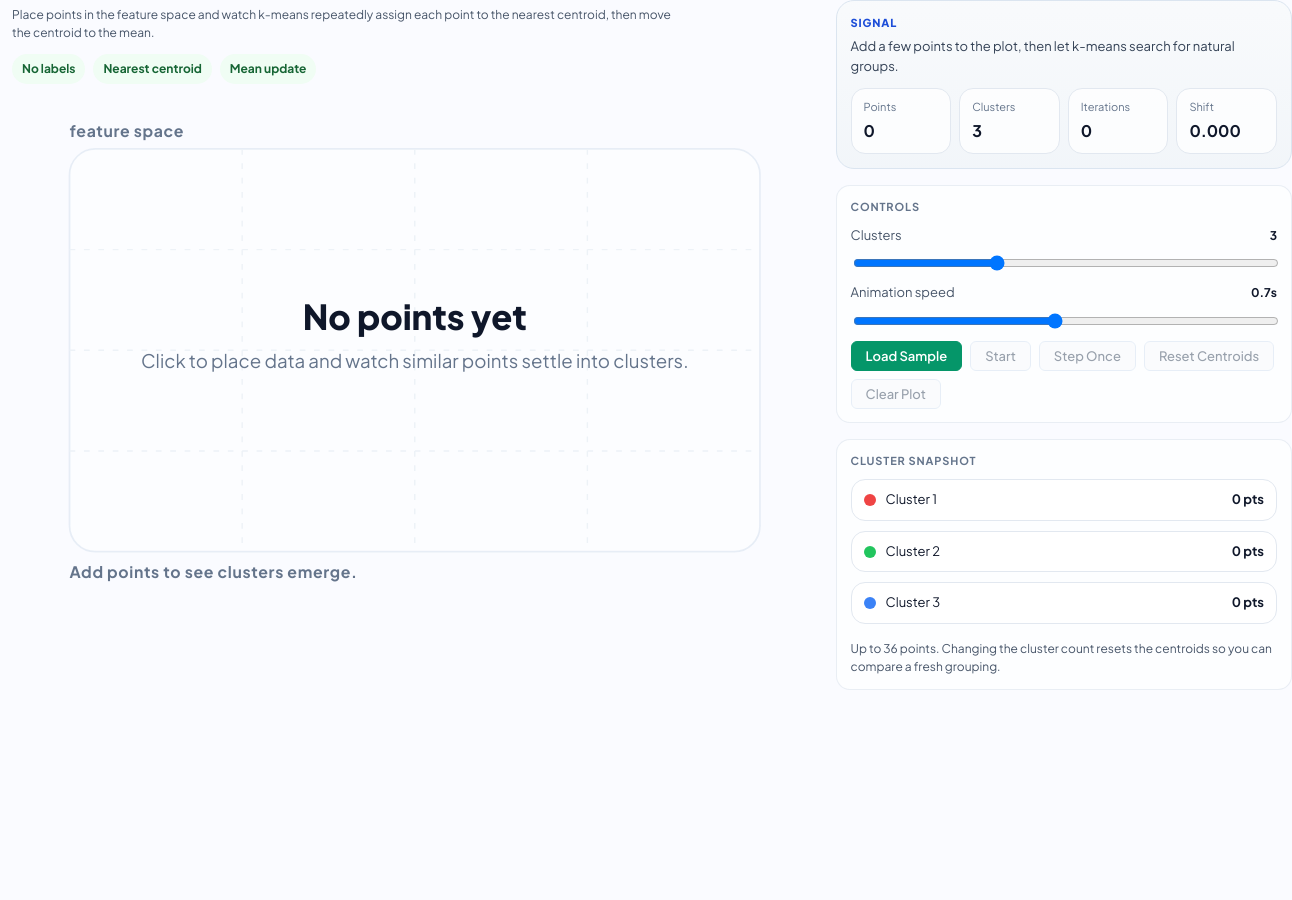
Scenario: ClusteringLab › enables controls and shows 12 points after clicking Load Sample
Click the button "Load Sample".
click(906, 356)  # box [850,341,962,371]
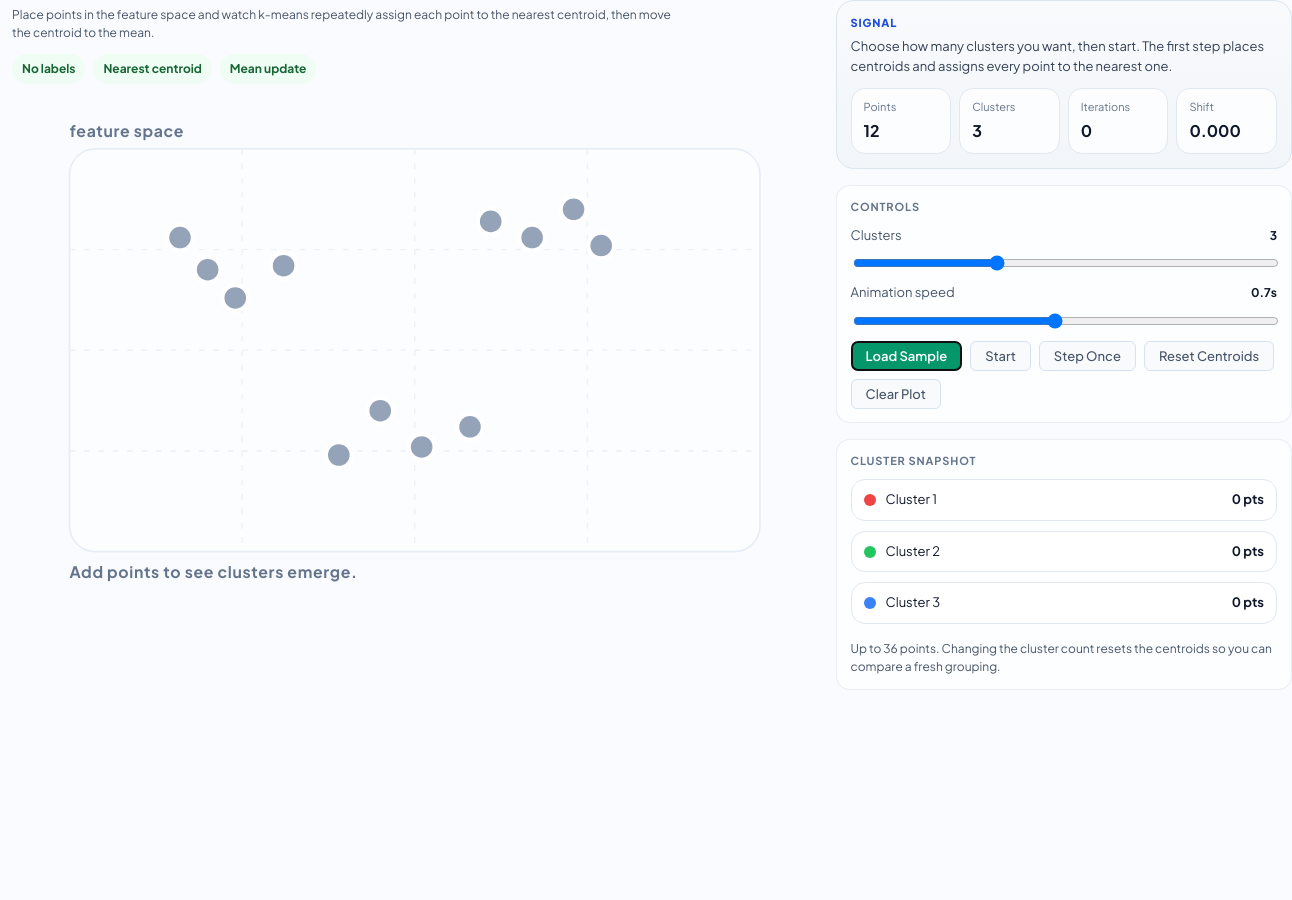
Expected: the button "Start" is enabled, [970,341,1031,371]
Expected: the button "Step Once" is enabled, [1039,341,1136,371]
Expected: the button "Reset Centroids" is enabled, [1144,341,1274,371]
